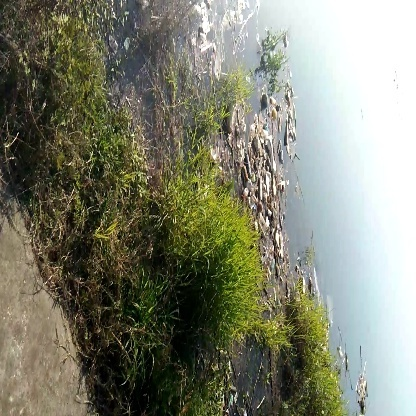grass: (186, 192, 257, 330)
